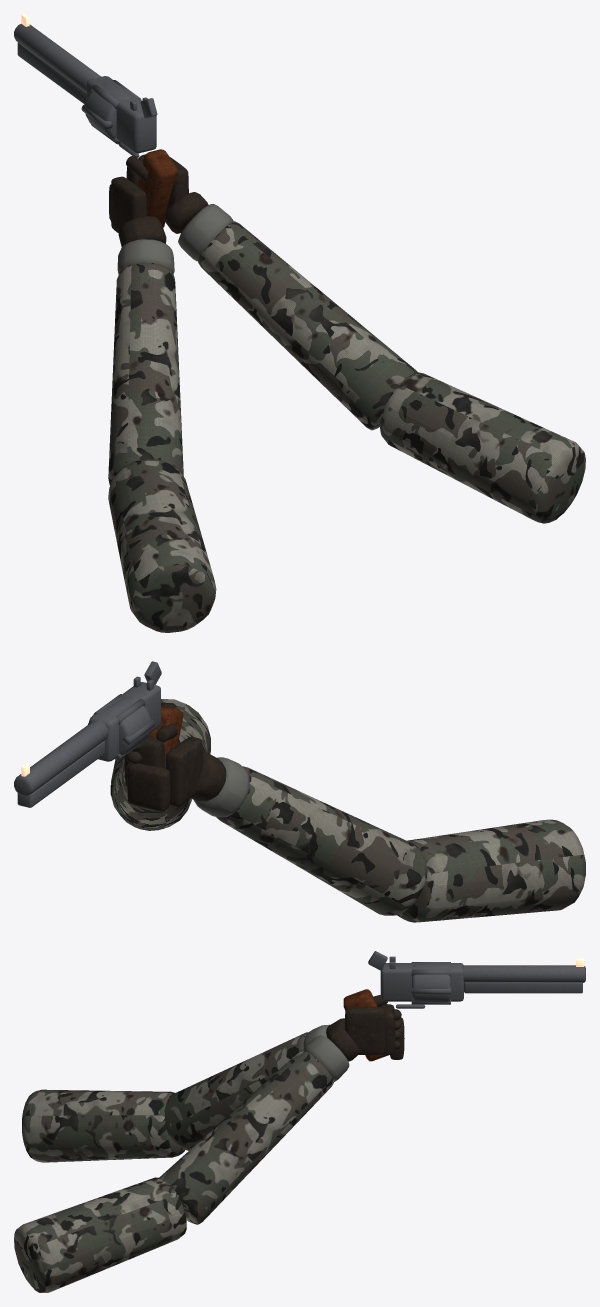
Rendered from vm_revolver.glb.
3 views of the same model, one above another, from view 1: azimuth 30°, elevation 25°; view 2: azimuth 150°, elevation 25°; view 3: azimuth 270°, elevation 25° (orthographic). The views are drawn at different scales.
Visible parts, largest first — view 1: UpperArmR, ForearmR, UpperArmL, ForearmL, Frame, Barrel, Grip, CuffR, PalmL, CuffL, Cylinder, WristR (+2 smaller); view 2: UpperArmL, ForearmL, Barrel, PalmL, FingersL, ForearmR, Frame, CuffL, UpperArmR, UnderLug, Cylinder, WristL (+2 smaller); view 3: UpperArmR, ForearmR, UpperArmL, ForearmL, Barrel, Frame, PalmR, UnderLug, Cylinder, CuffR, WristR, Grip (+1 smaller).
Boxes of the visible parts, x1,y1,x2,y2 form: UpperArmR: (380, 372, 585, 523); ForearmR: (198, 221, 417, 430); UpperArmL: (108, 459, 216, 632); ForearmL: (108, 262, 183, 485); Frame: (86, 76, 156, 153); Barrel: (14, 23, 101, 92); Grip: (138, 149, 178, 227); CuffR: (178, 204, 233, 261); PalmL: (110, 176, 146, 233); CuffL: (117, 239, 174, 274); Cylinder: (85, 82, 141, 138); WristR: (164, 192, 208, 233); UpperArmL: (397, 819, 585, 922); ForearmL: (216, 766, 427, 915); Barrel: (14, 720, 108, 795); PalmL: (165, 737, 202, 806); FingersL: (127, 763, 170, 811); ForearmR: (112, 759, 188, 830); Frame: (89, 682, 160, 761); CuffL: (193, 757, 249, 817); UpperArmR: (110, 699, 210, 827); UnderLug: (17, 740, 104, 807); Cylinder: (88, 697, 151, 755); WristL: (192, 752, 226, 801); UpperArmR: (14, 1177, 186, 1292); ForearmR: (159, 1050, 333, 1224); UpperArmL: (22, 1089, 184, 1162); ForearmL: (164, 1032, 308, 1150); Barrel: (462, 965, 585, 982); Frame: (380, 963, 463, 1001); PalmR: (344, 1006, 385, 1054); UnderLug: (464, 982, 582, 993); Cylinder: (412, 964, 450, 1002); CuffR: (303, 1035, 349, 1081); WristR: (326, 1025, 359, 1061); Grip: (343, 989, 388, 1061).
Bounding box in the file's own units: 0.7165 × 0.5185 × 0.9618.
7 materials, 4 textured.
